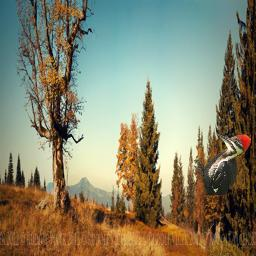Woodpecker: (194, 133, 251, 195)
